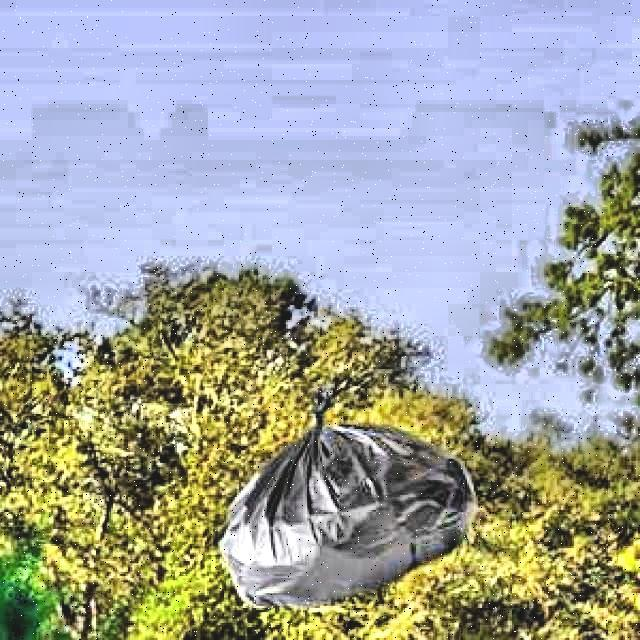Trashbag: (224, 389, 481, 619)
